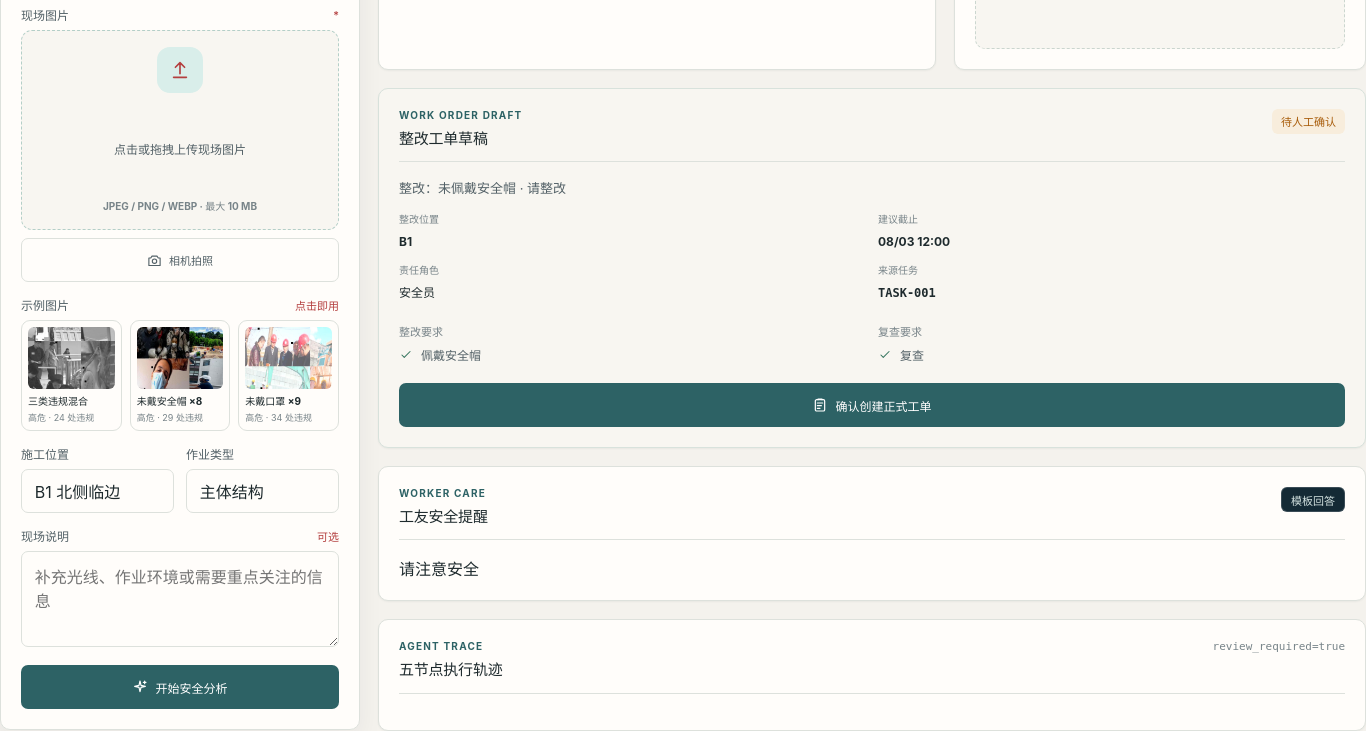
Test: SafetyAnalysisView › disables the confirmation action after creating the formal work order
(page scrolled)
Click the button "确认创建正式工单" at (872, 405), box x1=399 y1=383 x2=1345 y2=427
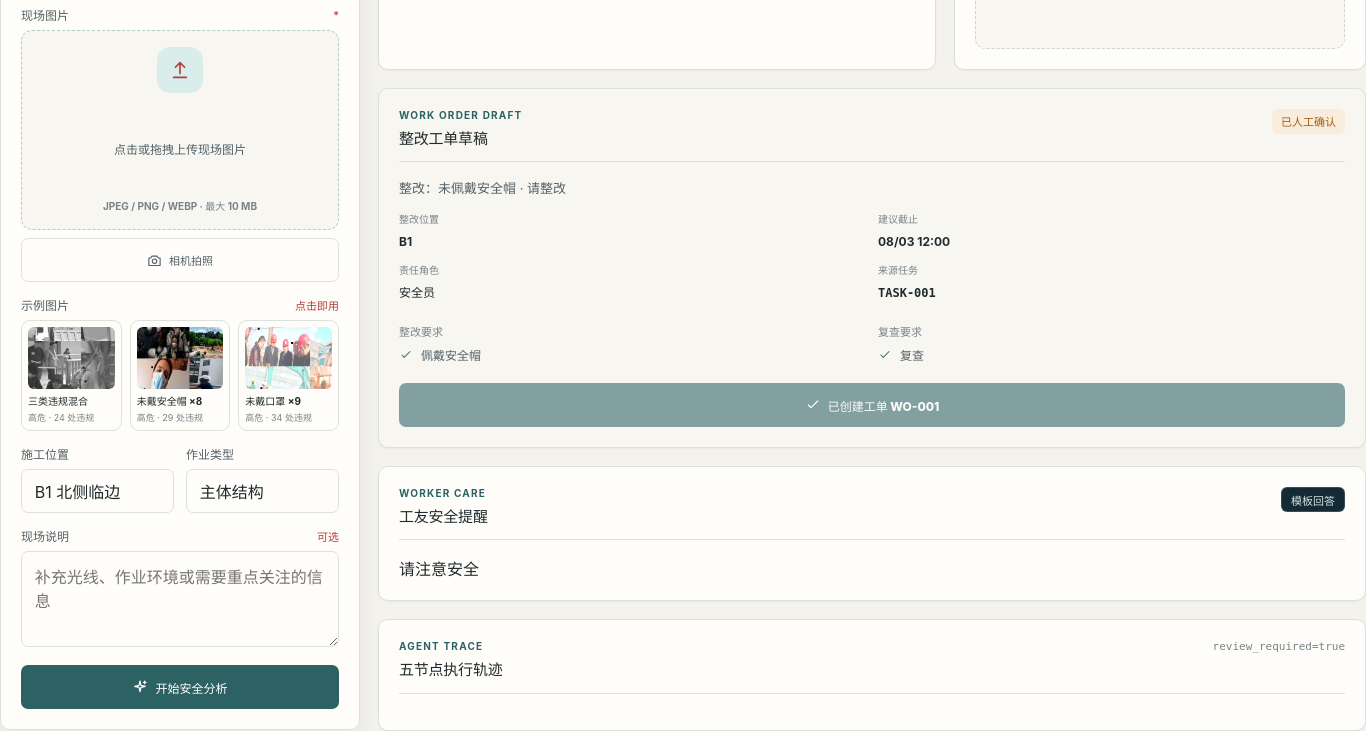
Check: the button "已创建工单 WO-001" is disabled, box x1=399 y1=383 x2=1345 y2=427
